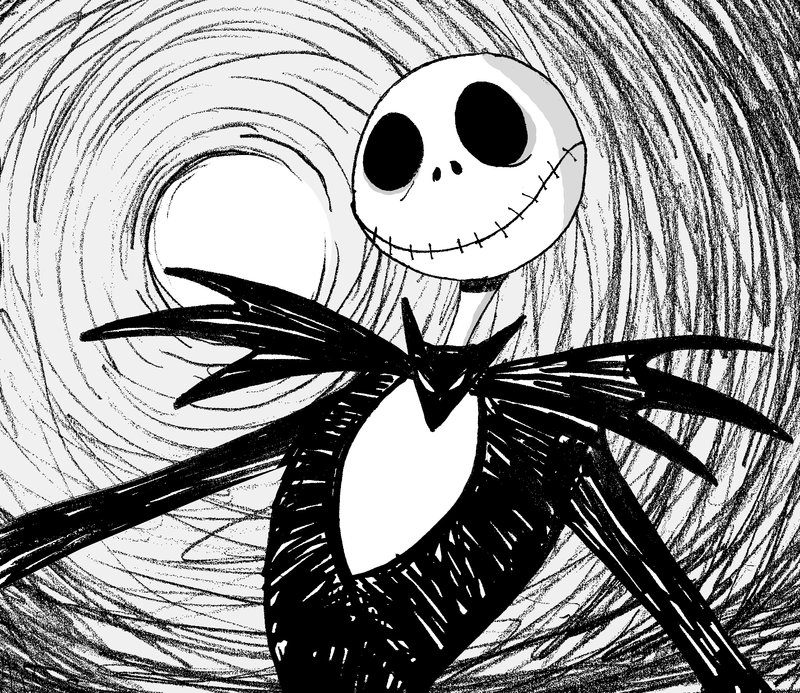Jack Skellington: (1, 52, 795, 693)
